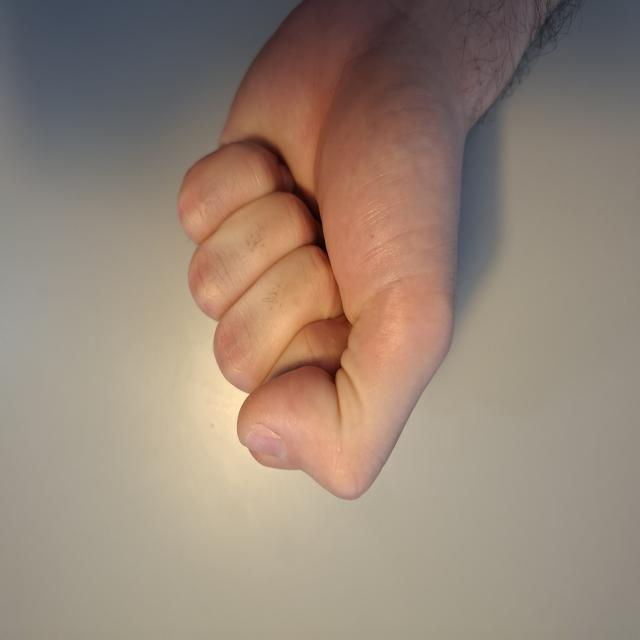glove_off: (175, 1, 576, 502)
